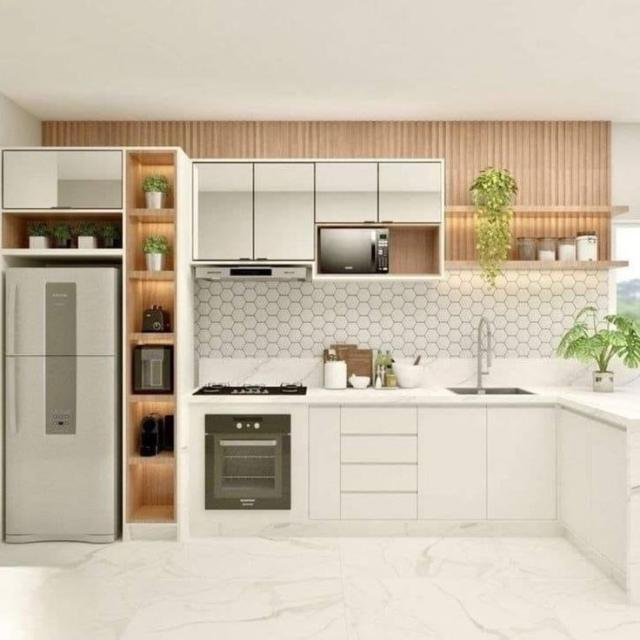obstacle: (2, 264, 121, 544), (338, 404, 557, 526), (190, 158, 314, 264)
